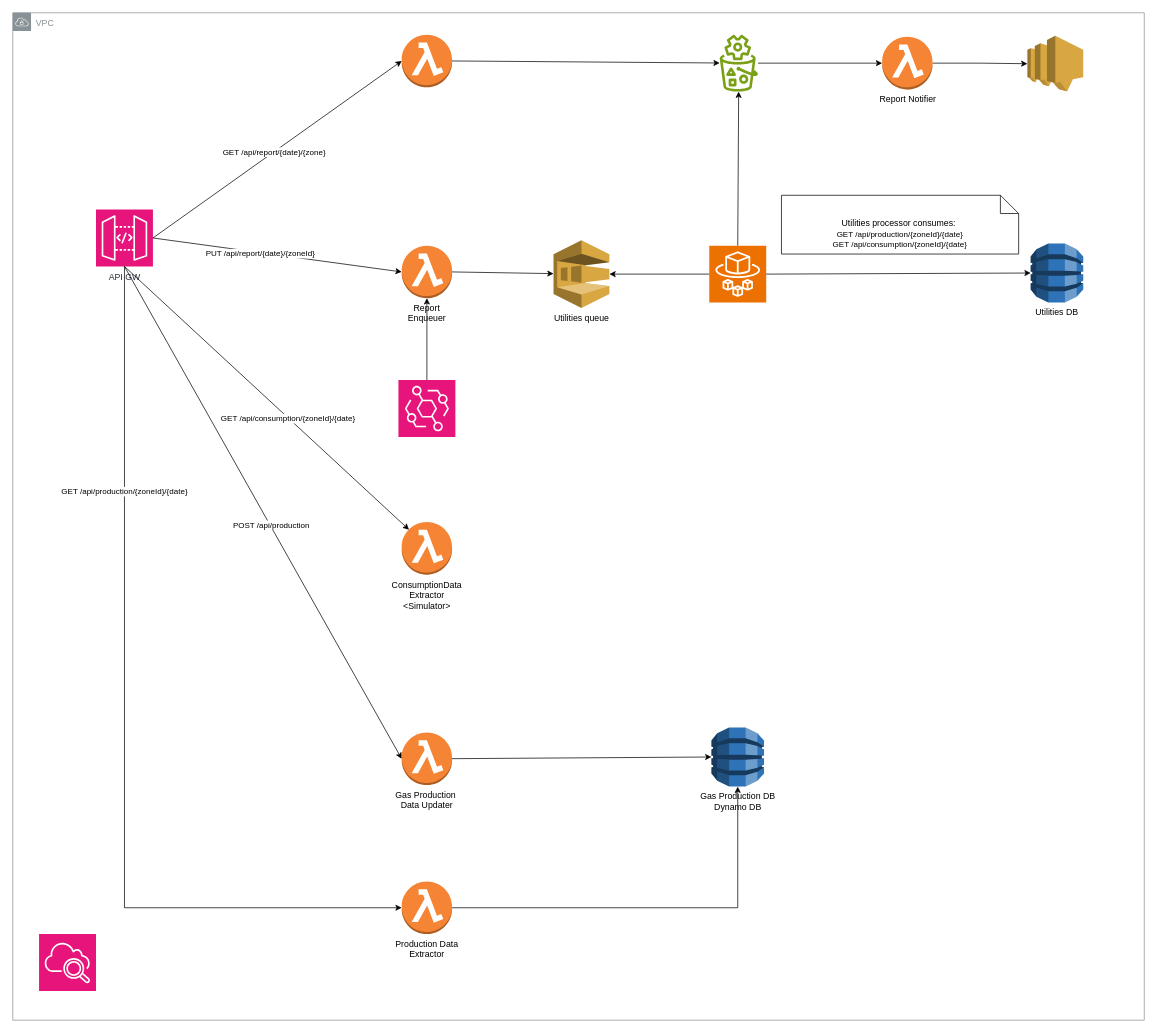
This 1157x1033 diagram has some shape labels left out. The centre of each missing label's shape, as x and y in pixels:
"Amazon Cloudwatch" goes at point 67,962.
"Fargate - Utilities Processor" goes at point 737,274.
"Programmatic request generation" goes at point 426,408.
"Report downloader" goes at point 426,60.
"S3 - Reports" goes at point 738,62.
"SNS - Report Notifier" goes at point 1055,63.
